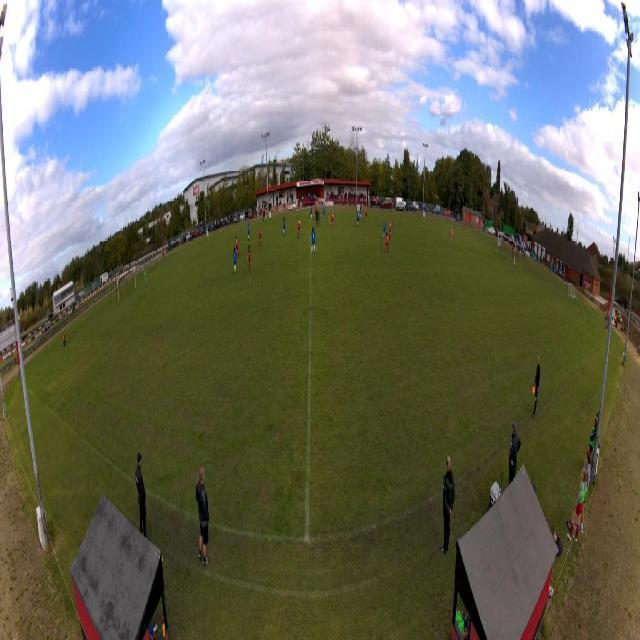ball: (329, 215, 331, 219)
player: (310, 227, 316, 256), (247, 244, 252, 273), (384, 231, 389, 255), (233, 246, 237, 275), (235, 235, 239, 259), (330, 210, 335, 229), (258, 226, 262, 247), (297, 216, 301, 237), (388, 219, 392, 240), (282, 216, 286, 236), (247, 222, 251, 241), (356, 209, 360, 228), (383, 219, 387, 238), (322, 205, 327, 219), (315, 207, 318, 227), (313, 204, 317, 219), (144, 268, 147, 287), (365, 206, 368, 223), (451, 226, 454, 243), (310, 204, 313, 220), (359, 204, 362, 220)
